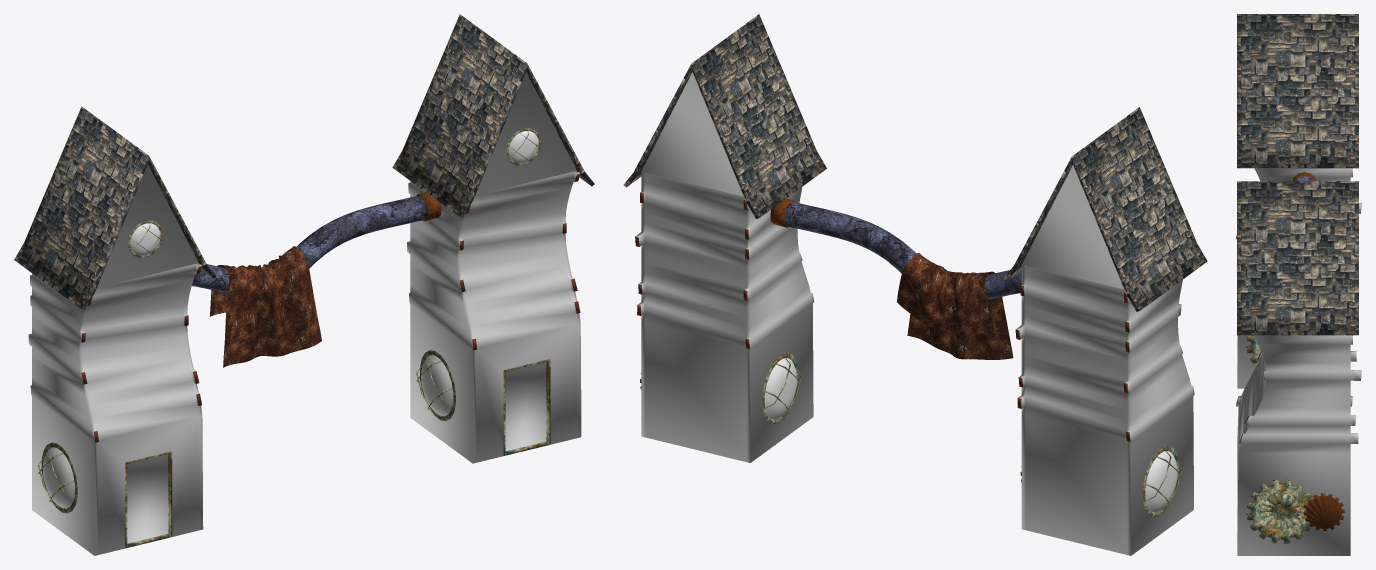
File: Pneumatic tube with cloth.fbx
3 views of the same model, side by side, from view 1: azimuth 30°, elevation 25°; view 2: azimuth 150°, elevation 25°; view 3: azimuth 270°, elevation 25° (orthographic). The views are drawn at different scales.
Parts seen in each view (by area): view 1: TallHouse, TallHouse.001, Pneumatic Tube with cloth; view 2: TallHouse, TallHouse.001, Pneumatic Tube with cloth; view 3: TallHouse.001, TallHouse, Gear (1).001, Gear2 (2).001, Gear (1), Pneumatic Tube with cloth.
Part boxes in pixels (x1=…): TallHouse: x1=14, y1=106, x2=216, y2=555; TallHouse.001: x1=392, y1=14, x2=594, y2=463; Pneumatic Tube with cloth: x1=192, y1=192, x2=441, y2=367; TallHouse: x1=1004, y1=107, x2=1207, y2=555; TallHouse.001: x1=623, y1=14, x2=826, y2=462; Pneumatic Tube with cloth: x1=770, y1=198, x2=1021, y2=359; TallHouse.001: x1=1236, y1=181, x2=1361, y2=555; TallHouse: x1=1236, y1=14, x2=1361, y2=388; Gear (1).001: x1=1246, y1=479, x2=1312, y2=543; Gear2 (2).001: x1=1303, y1=493, x2=1344, y2=531; Gear (1): x1=1246, y1=335, x2=1261, y2=364; Pneumatic Tube with cloth: x1=1292, y1=172, x2=1316, y2=181.
Size of the model in its own units: 946 by 682 by 222.
